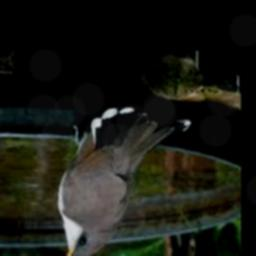Cuckoo: (53, 108, 191, 256)
